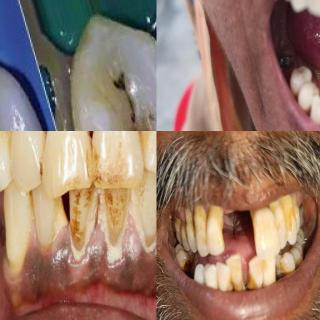Gum Swelling: (13, 223, 81, 289), (80, 218, 155, 276)
calculus: (89, 131, 139, 175), (67, 220, 100, 276), (100, 220, 131, 274), (42, 131, 86, 158), (132, 223, 156, 267), (248, 268, 260, 290), (232, 275, 246, 291), (178, 255, 192, 271), (291, 256, 303, 274), (273, 263, 285, 280), (223, 278, 236, 292)
maligned: (251, 200, 277, 258), (226, 252, 244, 292), (216, 261, 234, 289), (246, 256, 262, 286)
stains: (93, 133, 141, 186), (102, 186, 129, 262), (69, 191, 97, 257), (52, 148, 94, 188), (136, 176, 156, 248), (32, 151, 54, 189)
